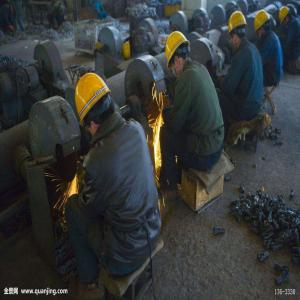yellow: (74, 72, 114, 134), (166, 33, 192, 74), (229, 13, 248, 48), (255, 12, 271, 37), (280, 7, 292, 28)
